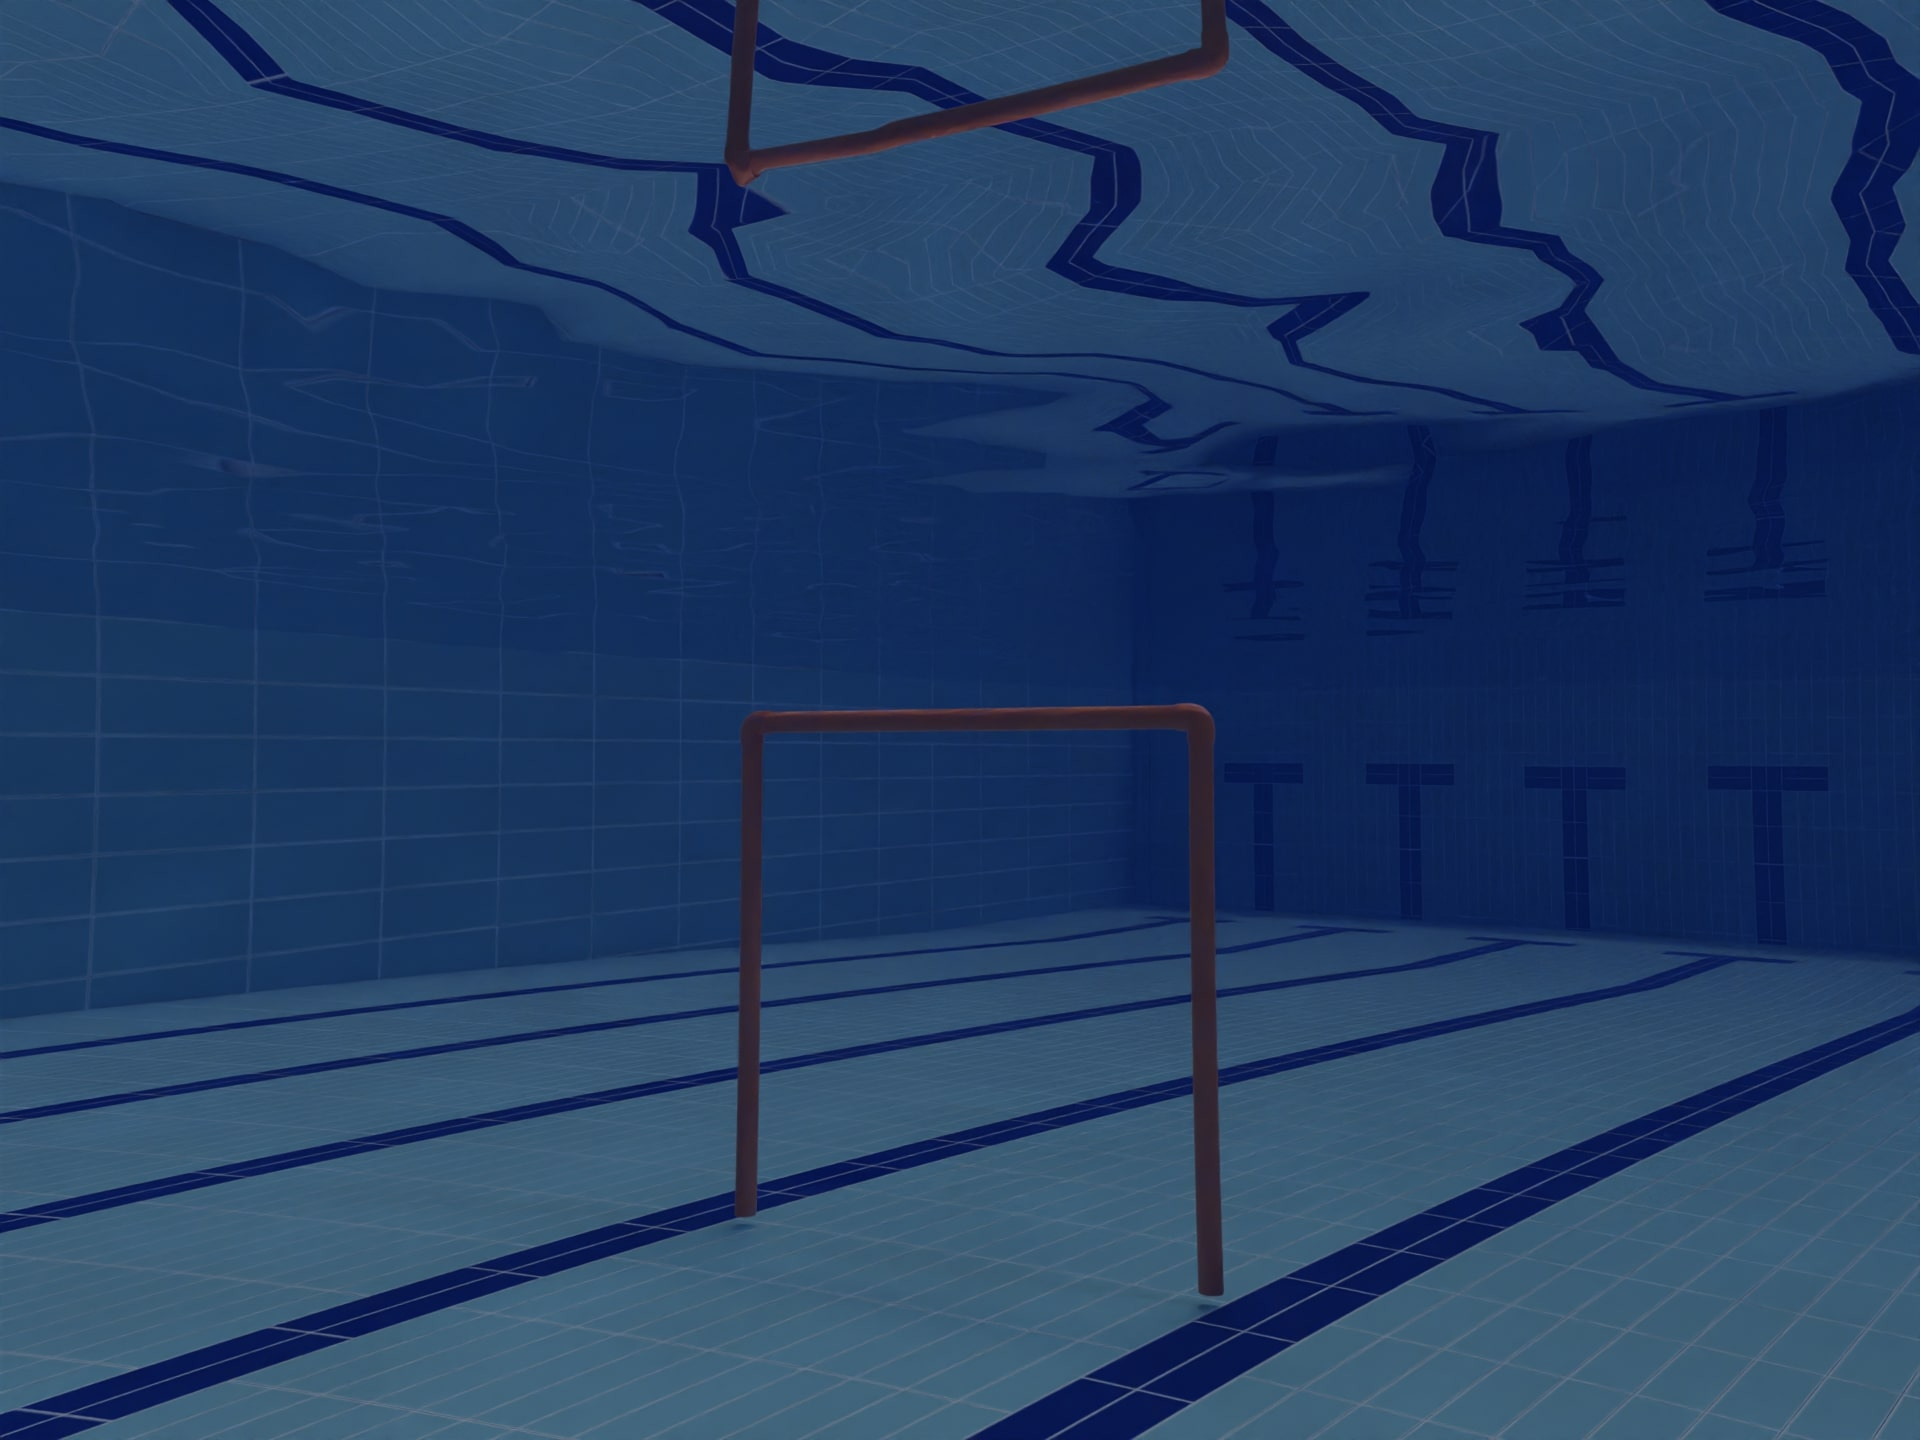gate: (701, 673, 1281, 1316)
